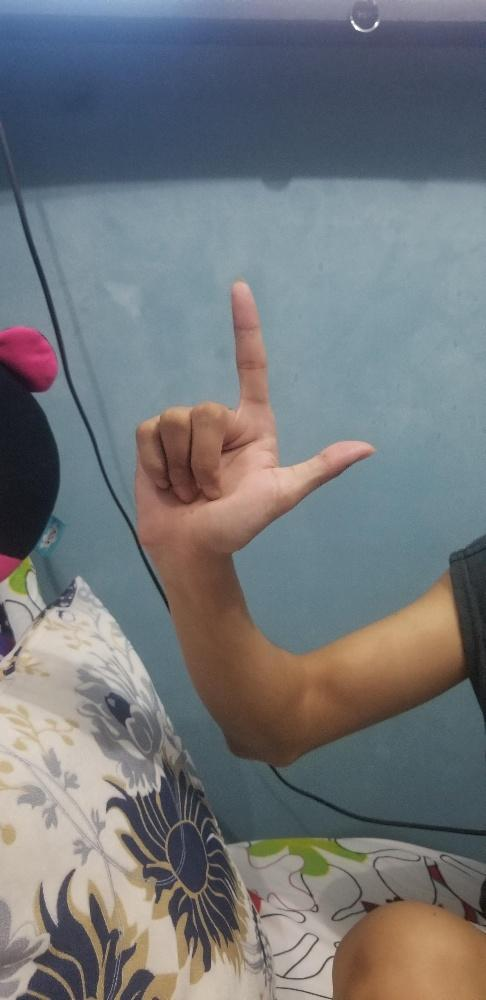l: (130, 275, 376, 556)
